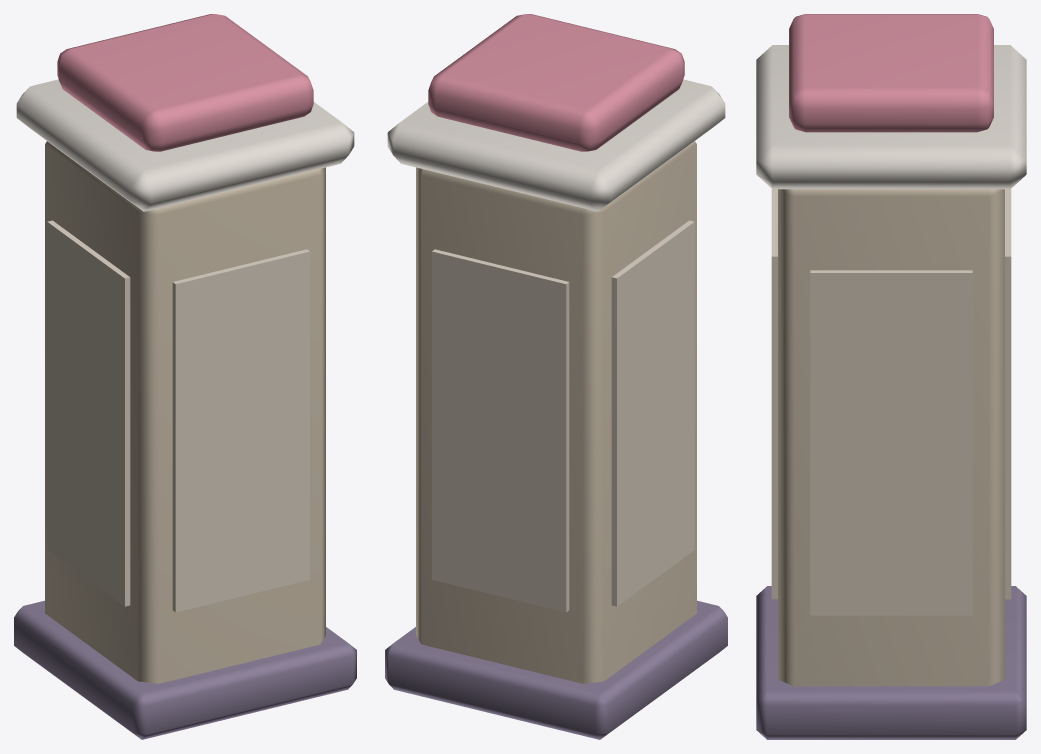
The model's file is block-post.glb.
3 views of the same model, side by side, from view 1: azimuth 30°, elevation 25°; view 2: azimuth 150°, elevation 25°; view 3: azimuth 270°, elevation 25° (orthographic). The views are drawn at different scales.
Visible parts, largest first — view 1: block-post; view 2: block-post; view 3: block-post.
Part boxes in pixels (<box>): block-post: <box>14,14,356,739</box>; block-post: <box>385,14,727,739</box>; block-post: <box>756,14,1026,739</box>.
Bounding box in the file's own units: 0.5 × 1.3 × 0.5.
